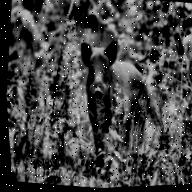boar: (62, 23, 172, 167)
